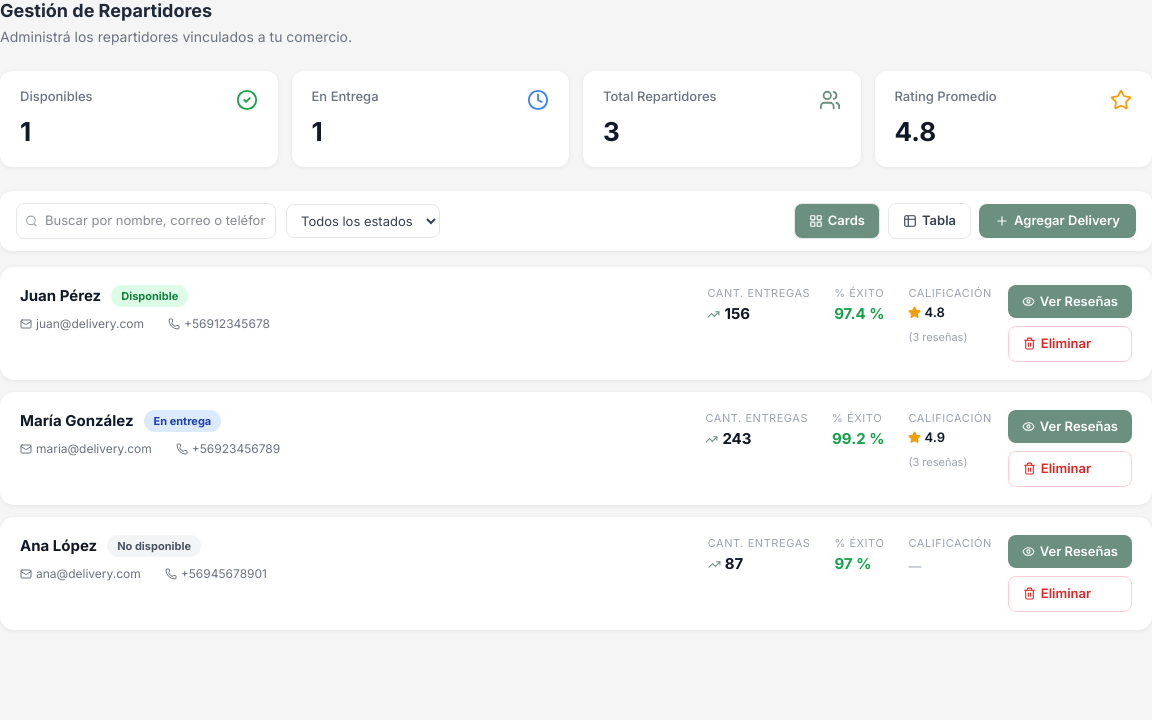
it: CommerceDeliveriesPage › Modal de eliminación › muestra error inline si deleteStoreDelivery falla
The width and height of the screenshot is (1152, 720).
Step 1. Click the button "Eliminar" in the row of "+56912345678" → click(1070, 344), box [1008, 326, 1132, 362]
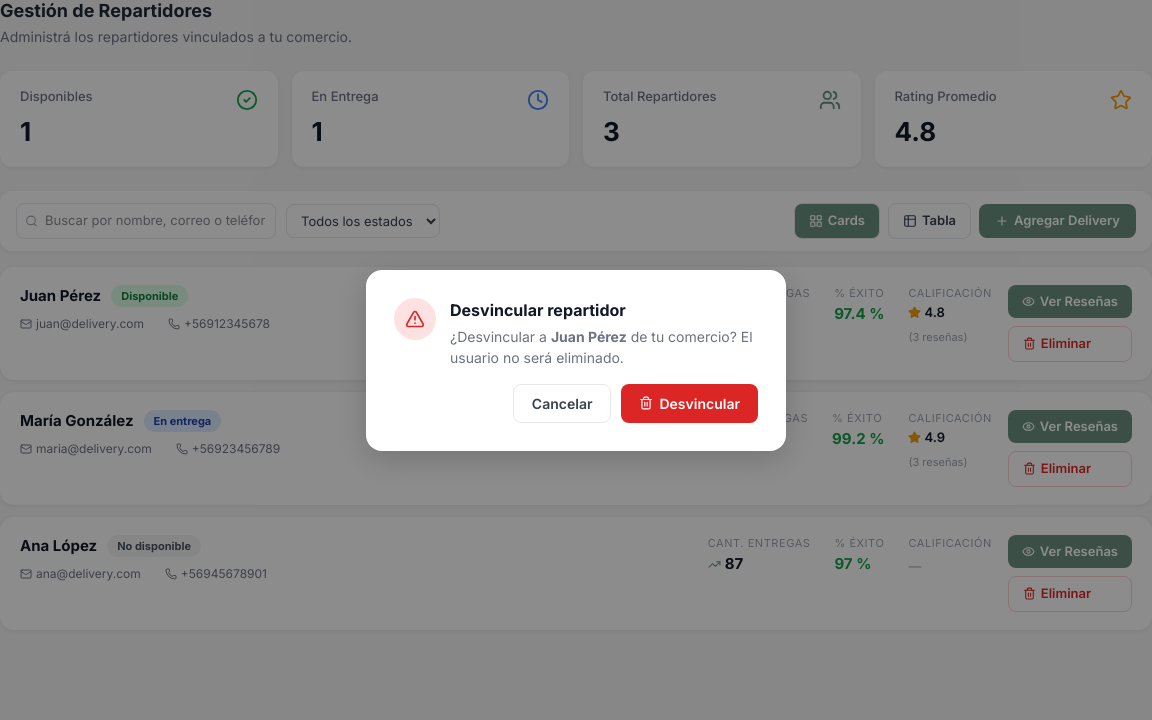
Step 2. Click the button "Desvincular" → click(690, 403), box [622, 384, 758, 422]
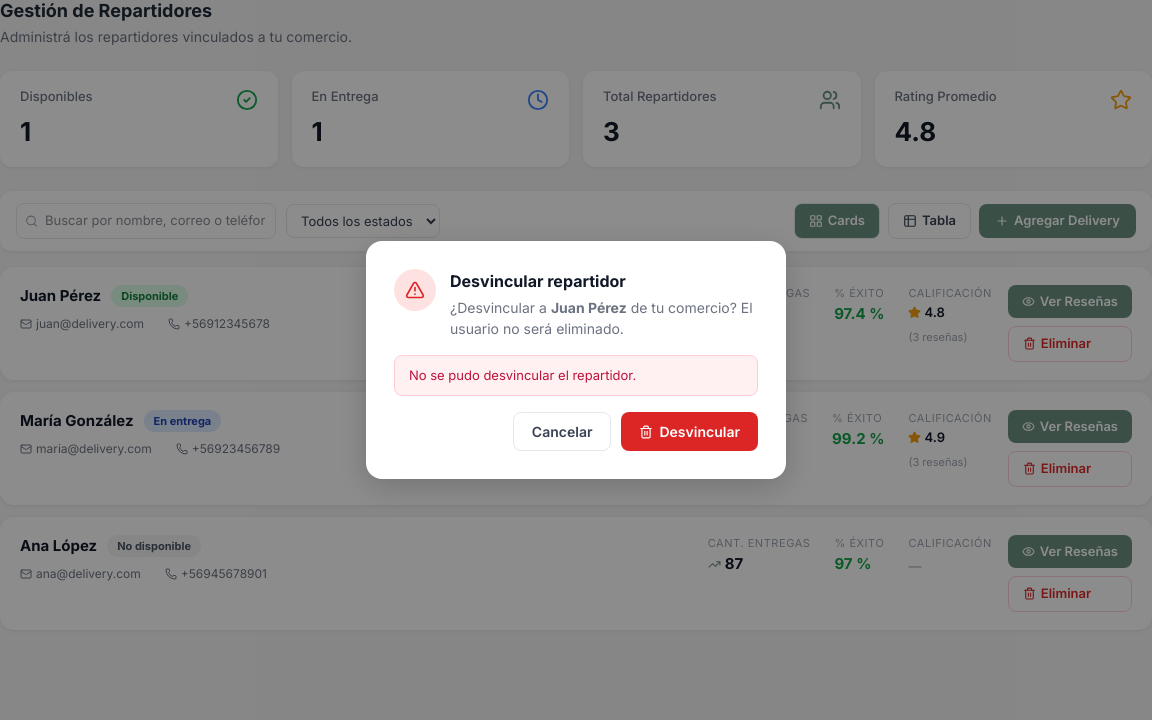
expect the text "Desvincular repartidor" is shown: met, box [450, 271, 626, 291]
expect the text "No se pudo desvincular el repartidor." is shown: met, box [394, 355, 758, 396]
